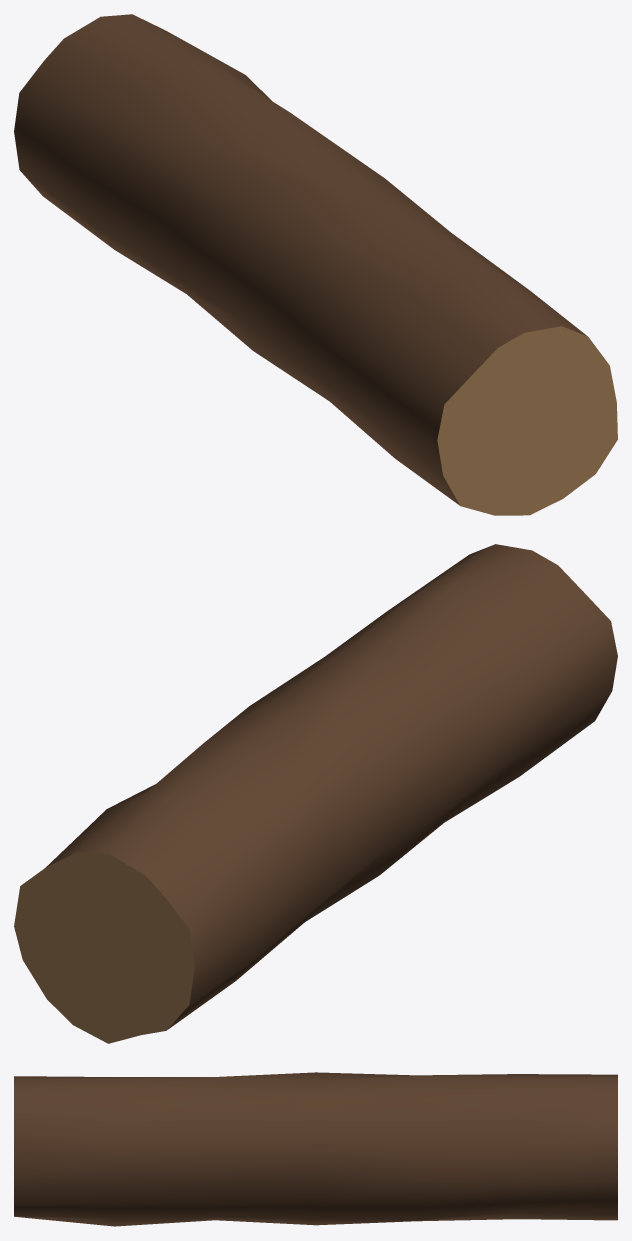
The model's file is WF_PCGLog.2.glb.
The picture shows the model from 3 angles, top to bottom: view 1: azimuth 30°, elevation 25°; view 2: azimuth 150°, elevation 25°; view 3: azimuth 270°, elevation 25°; orthographic projection. The views are drawn at different scales.
Parts seen in each view (by area): view 1: Log.002; view 2: Log.002; view 3: Log.002.
Boxes of the visible parts, x1,y1,x2,y2 form: Log.002: [14, 14, 617, 515]; Log.002: [14, 544, 617, 1043]; Log.002: [14, 1072, 617, 1226].
Bounding box in the file's own units: 0.1062 × 0.105 × 0.41.
